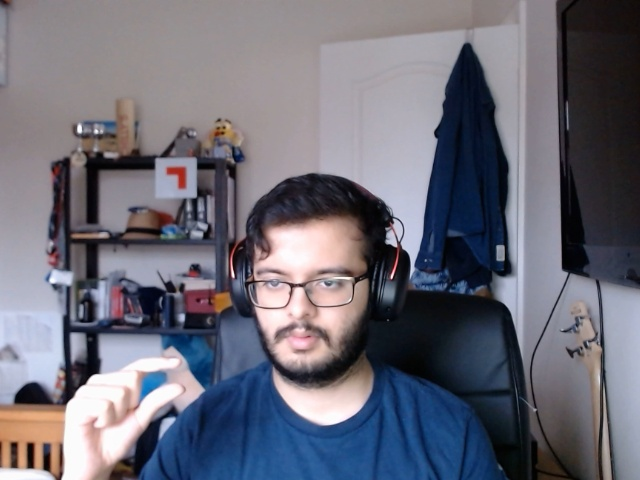Small: (51, 329, 197, 480)
